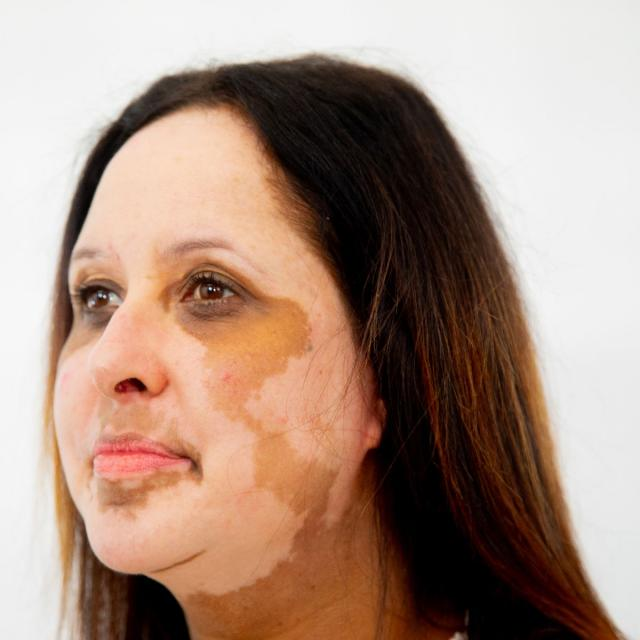vitiligo: (60, 189, 366, 629)
